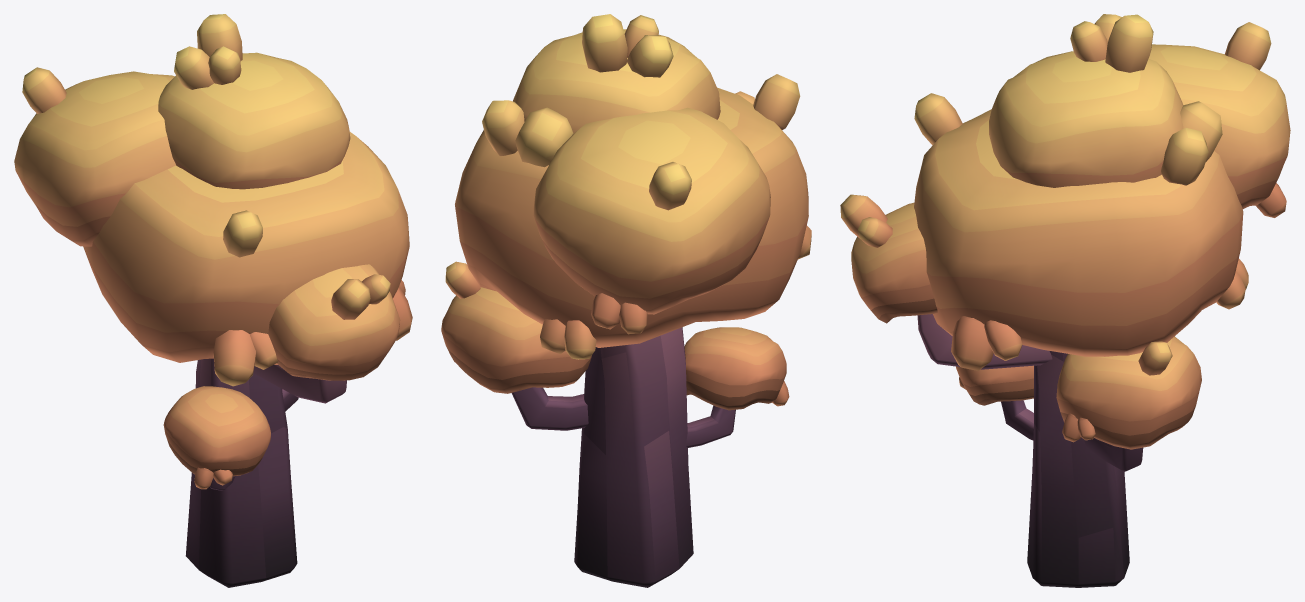
Rendered from grassland_tree_col2_4.fbx.
The picture shows the model from 3 angles, left to right: view 1: azimuth 30°, elevation 25°; view 2: azimuth 150°, elevation 25°; view 3: azimuth 270°, elevation 25°; orthographic projection. The views are drawn at different scales.
Parts seen in each view (by area): view 1: grassland_tree_col2_4; view 2: grassland_tree_col2_4; view 3: grassland_tree_col2_4.
Part boxes in pixels (x1,y1,x2,y2): grassland_tree_col2_4: (14, 14, 412, 587); grassland_tree_col2_4: (441, 14, 811, 587); grassland_tree_col2_4: (840, 14, 1290, 587).
Size of the model in its own units: 531 by 914 by 672.
